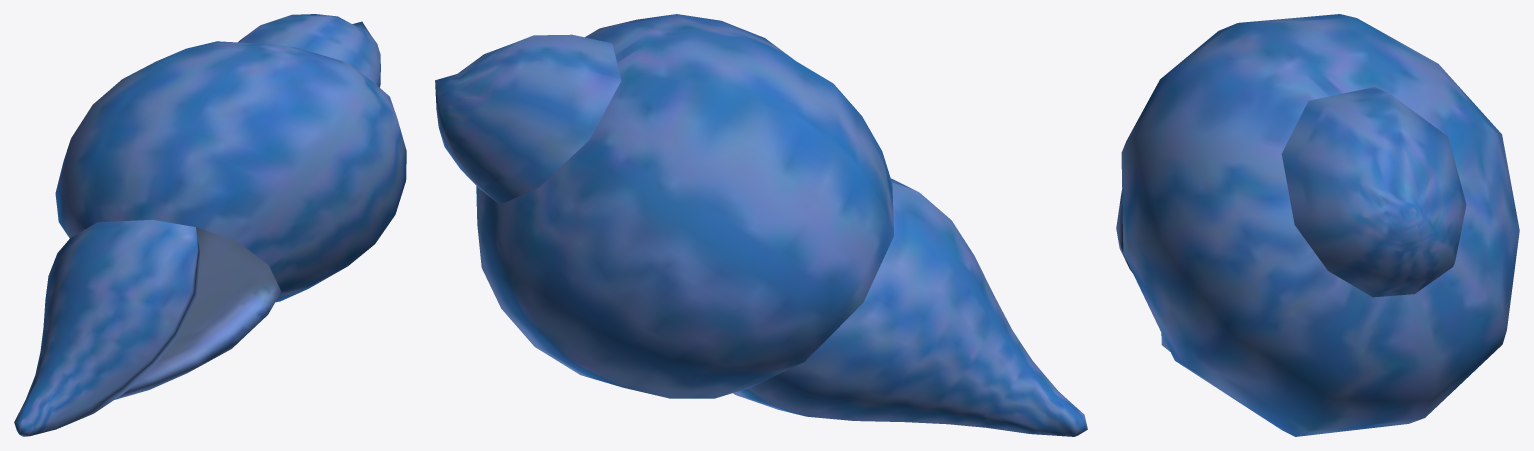
The model's file is summer-shell.glb.
3 views of the same model, side by side, from view 1: azimuth 30°, elevation 25°; view 2: azimuth 150°, elevation 25°; view 3: azimuth 270°, elevation 25° (orthographic). The views are drawn at different scales.
Bounding box in the file's own units: 4.18 × 2.65 × 2.41.
Materials: 1 (1 with a texture image).
